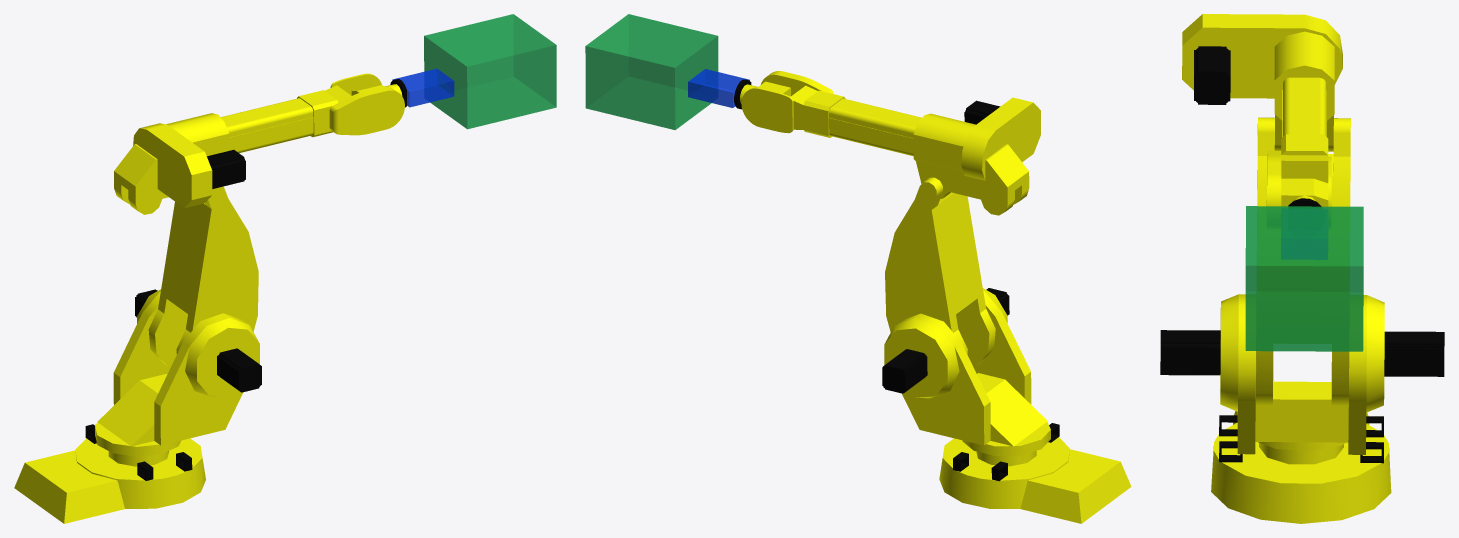
The model's file is 6-Axis robot.FBX.
The picture shows the model from 3 angles, left to right: view 1: azimuth 30°, elevation 25°; view 2: azimuth 150°, elevation 25°; view 3: azimuth 270°, elevation 25°; orthographic projection. The views are drawn at different scales.
Visible parts, largest first — view 1: Solid1_1, Solid1, Solid1_2, Solid1_8, Solid1_3, Solid1_4, Solid1_7; view 2: Solid1_1, Solid1_2, Solid1, Solid1_8, Solid1_3, Solid1_4, Solid1_7; view 3: Solid1_1, Solid1_8, Solid1, Solid1_3, Solid1_4, Solid1_2, Solid1_5, Solid1_7.
Boxes of the visible parts, box(x1,y1,x2,y2) form: Solid1_1: box(97, 289, 261, 446); Solid1: box(14, 422, 205, 523); Solid1_2: box(148, 186, 258, 366); Solid1_8: box(424, 14, 556, 129); Solid1_3: box(114, 113, 245, 214); Solid1_4: box(221, 73, 404, 153); Solid1_7: box(392, 68, 454, 107); Solid1_1: box(882, 288, 1047, 446); Solid1_2: box(885, 177, 995, 366); Solid1: box(939, 422, 1131, 523); Solid1_8: box(585, 14, 718, 129); Solid1_3: box(913, 97, 1040, 215); Solid1_4: box(741, 71, 921, 156); Solid1_7: box(688, 69, 749, 107); Solid1_1: box(1160, 294, 1444, 454); Solid1_8: box(1245, 206, 1363, 351); Solid1: box(1211, 411, 1391, 523); Solid1_3: box(1182, 14, 1342, 151); Solid1_4: box(1266, 77, 1331, 206); Solid1_2: box(1255, 117, 1350, 406); Solid1_5: box(1281, 178, 1328, 206); Solid1_7: box(1281, 238, 1327, 259).
Bounding box in the file's own units: 5.17 × 3.53 × 1.87.
